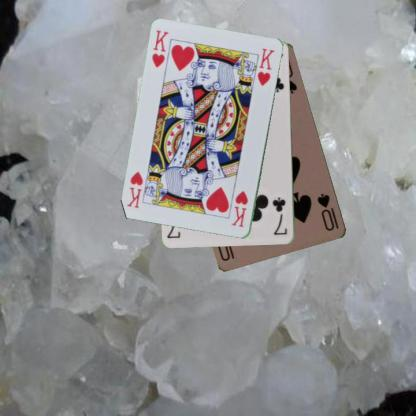10s: (315, 191, 340, 233)
7c: (270, 195, 289, 236)
Kh: (228, 188, 249, 229), (149, 28, 170, 69)
